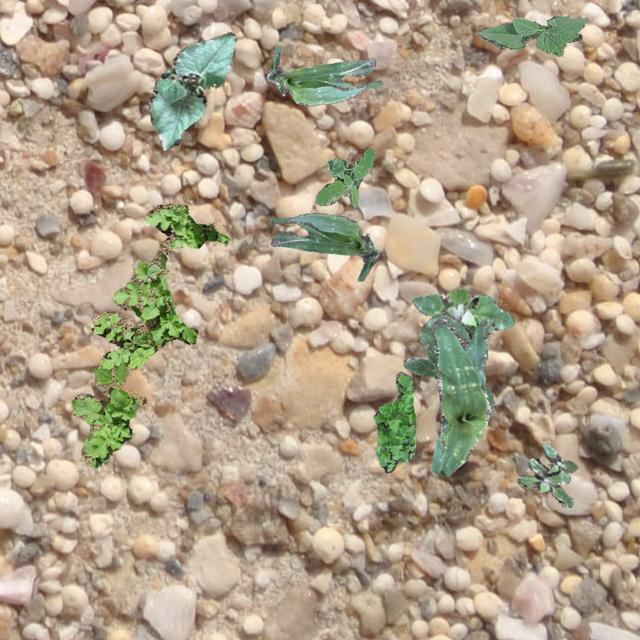crop: (148, 30, 235, 150), (430, 316, 490, 476), (402, 312, 493, 410), (268, 212, 378, 280), (266, 46, 382, 104), (477, 15, 588, 56)
weed: (70, 202, 228, 468), (411, 288, 514, 340), (372, 371, 414, 472), (516, 442, 576, 507), (314, 147, 374, 206)
